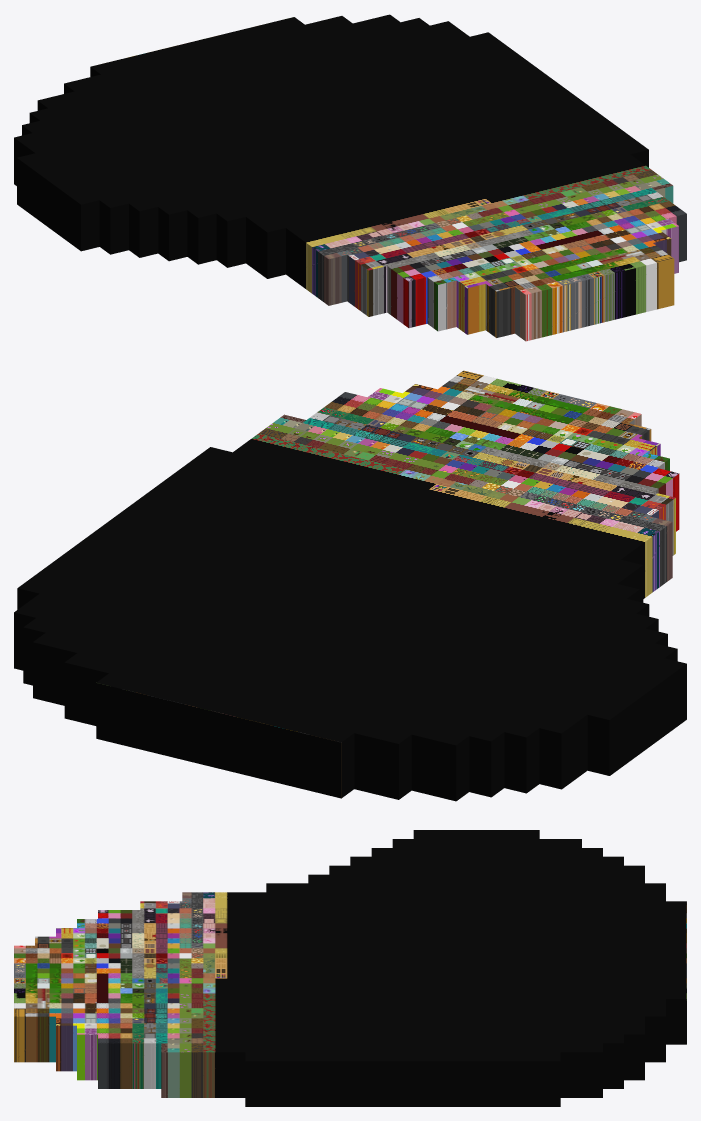
3 renders of one model, top to bottom at view 1: azimuth 30°, elevation 25°; view 2: azimuth 150°, elevation 25°; view 3: azimuth 270°, elevation 25°, orthographic. The views are drawn at different scales.
Parts seen in each view (by area): view 1: Plane_0; view 2: Plane_0; view 3: Plane_0.
Boxes of the visible parts, x1=… form: Plane_0: x1=14, y1=14, x2=686, y2=341; Plane_0: x1=14, y1=370, x2=686, y2=801; Plane_0: x1=14, y1=830, x2=686, y2=1106.
Bounding box in the file's own units: 162 × 15 × 200.
